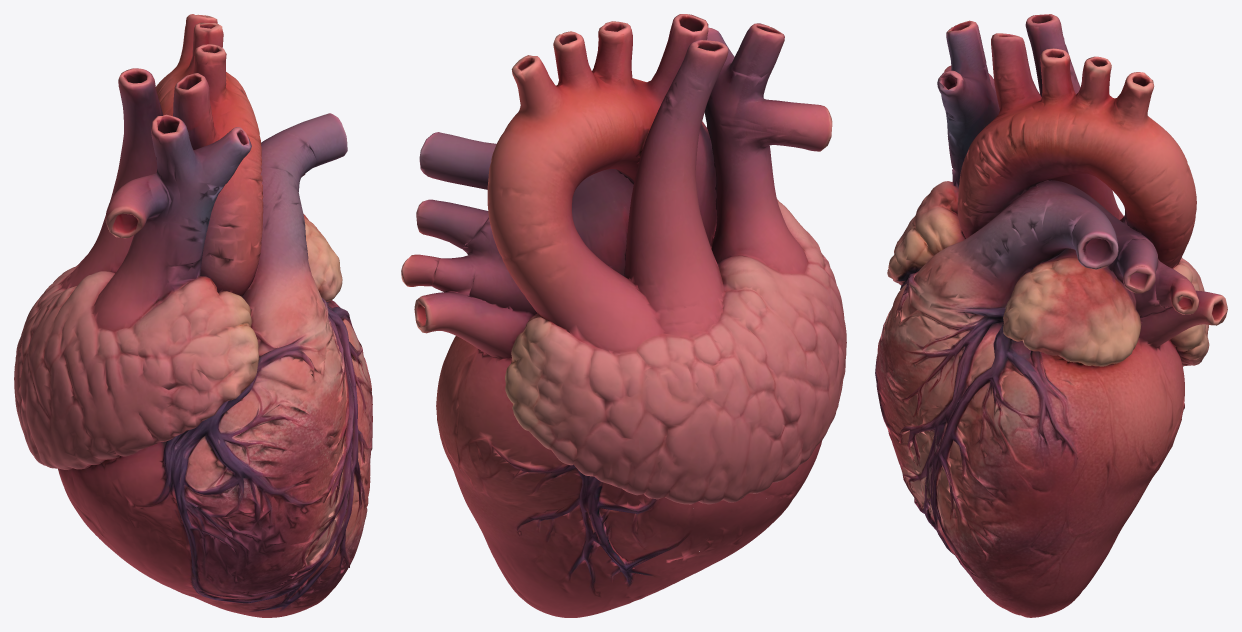
File: heart.glb
The picture shows the model from 3 angles, left to right: view 1: azimuth 30°, elevation 25°; view 2: azimuth 150°, elevation 25°; view 3: azimuth 270°, elevation 25°; orthographic projection. The views are drawn at different scales.
Parts seen in each view (by area): view 1: tripo_node_9c16954f-d29a-4a4b-baf4-ba02eda23201; view 2: tripo_node_9c16954f-d29a-4a4b-baf4-ba02eda23201; view 3: tripo_node_9c16954f-d29a-4a4b-baf4-ba02eda23201.
Boxes of the visible parts, x1,y1,x2,y2 form: tripo_node_9c16954f-d29a-4a4b-baf4-ba02eda23201: (14, 14, 372, 617); tripo_node_9c16954f-d29a-4a4b-baf4-ba02eda23201: (401, 14, 846, 617); tripo_node_9c16954f-d29a-4a4b-baf4-ba02eda23201: (875, 14, 1227, 617).
Bounding box in the file's own units: 0.5967 × 0.9803 × 0.5839.
Materials: 1 (1 with a texture image).
